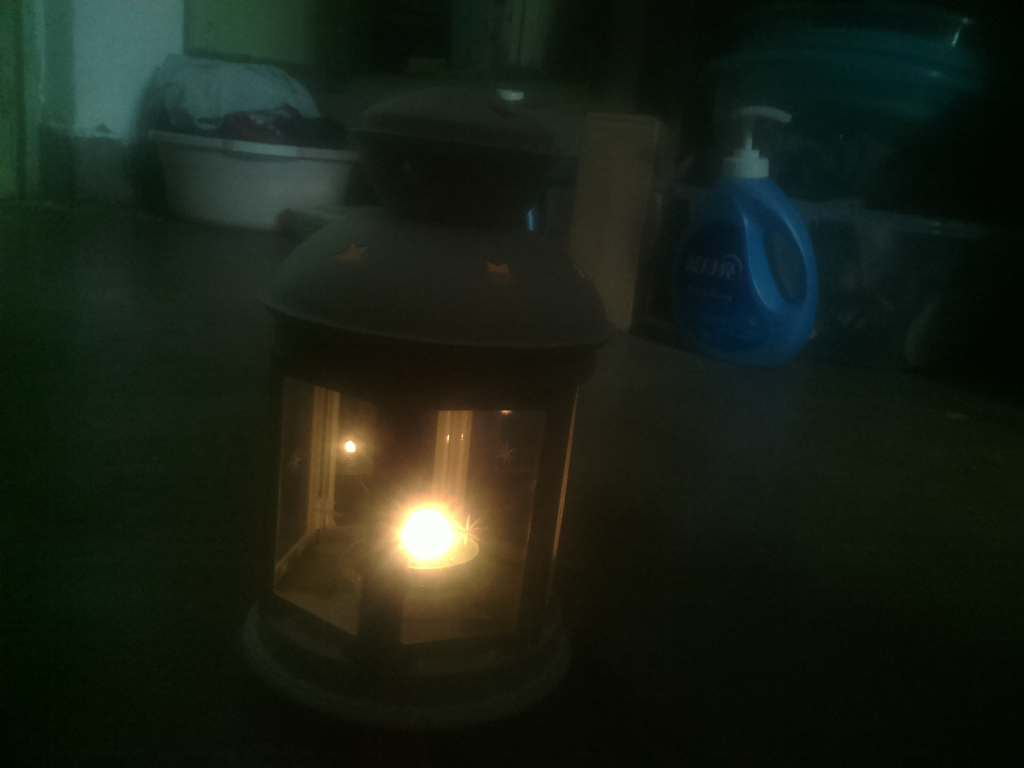fire: (367, 486, 515, 599)
